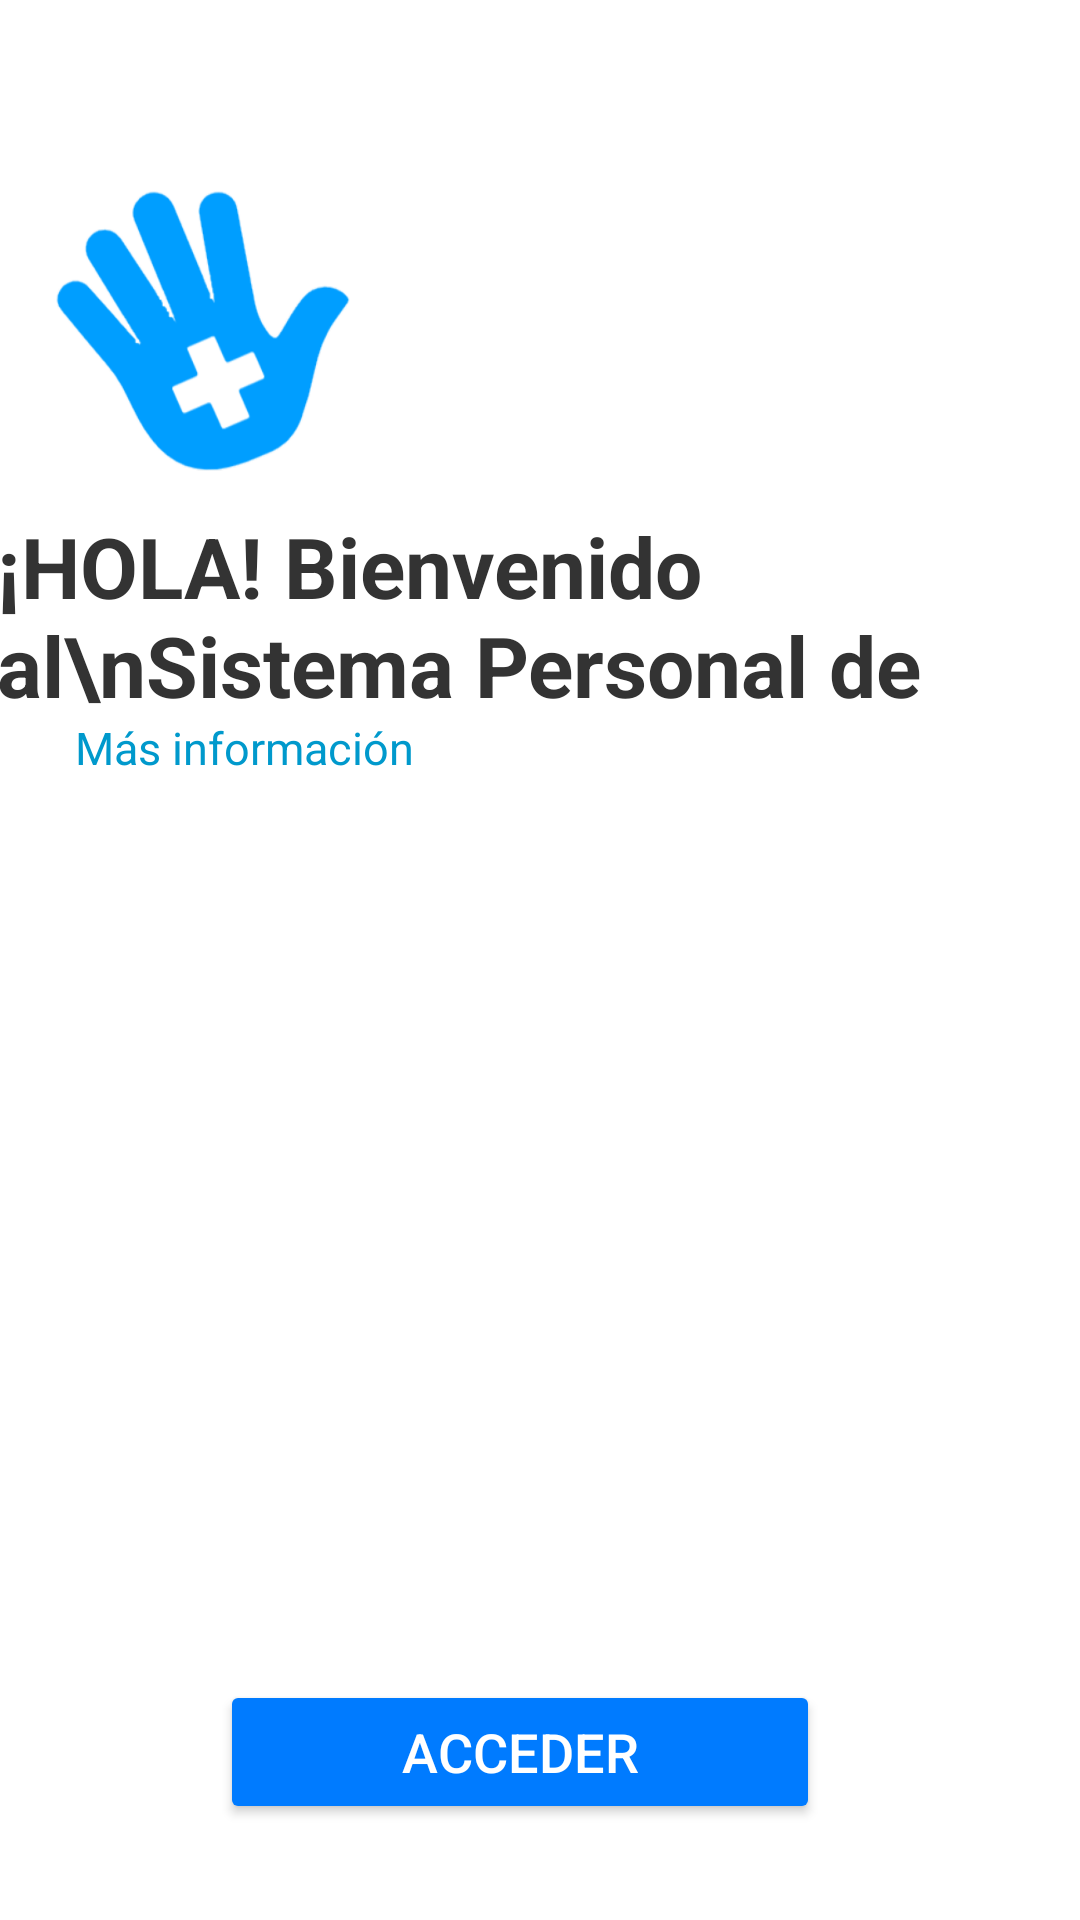

Point at icon controls on the screen. Image size 1080x1920, points as [x,y].
manito: [202,330]
